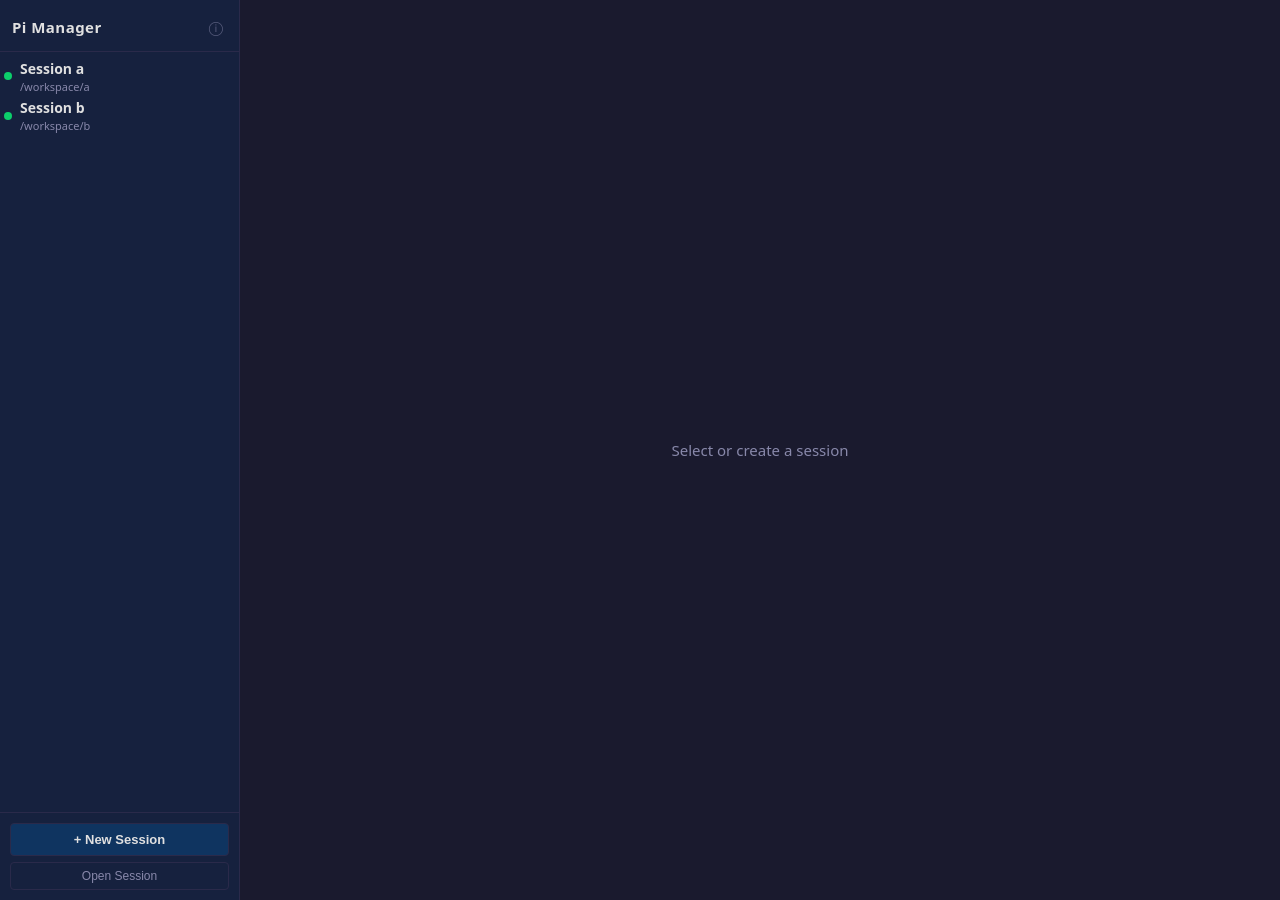
Test: App › clicking a different session switches the active view
Click the text "Session a".
click(52, 68)  # box [20,58,84,78]
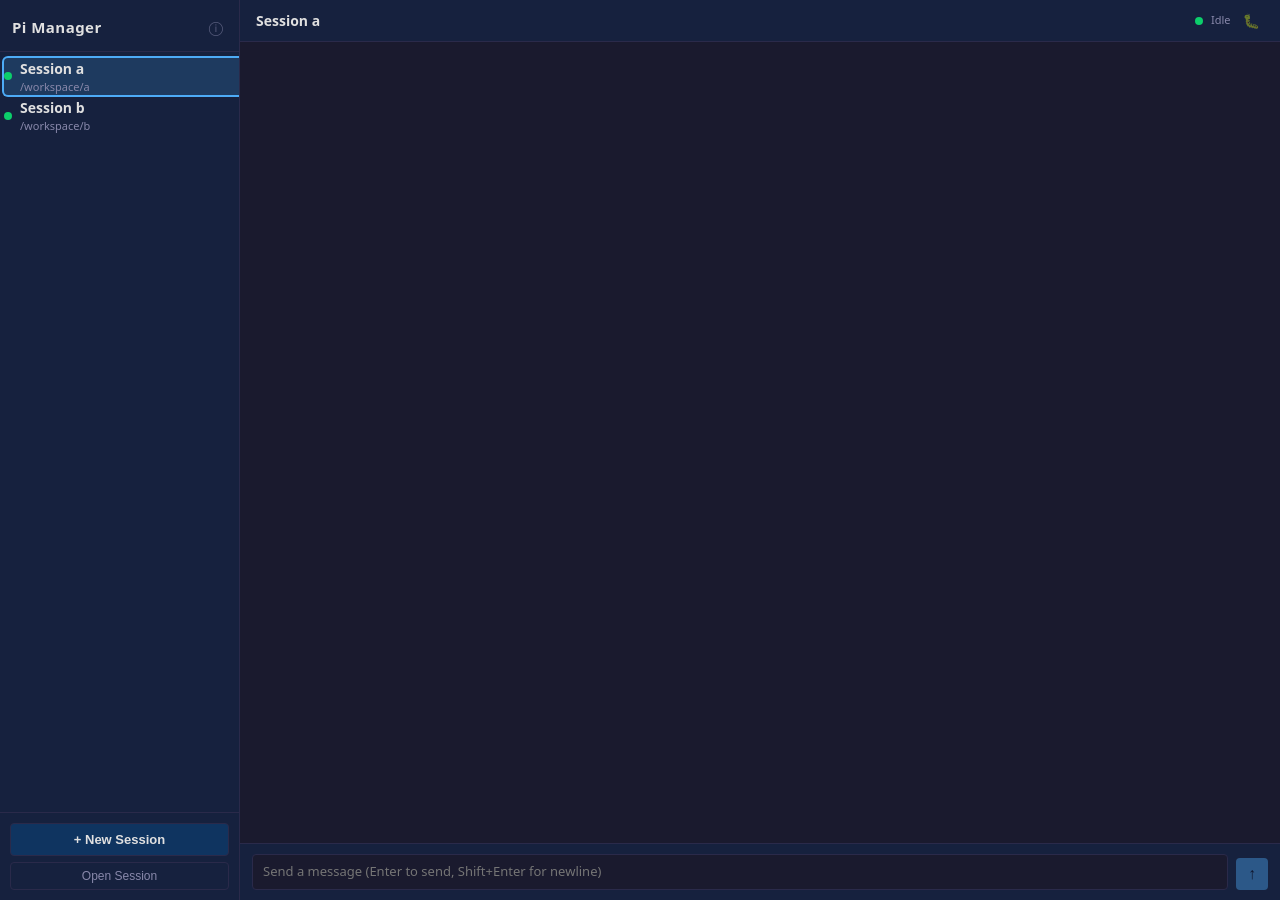
Now the text "Session a" next to "idle" is shown, box [256,11,320,30]
Click the text "Session b".
click(52, 108)  # box [20,98,84,117]
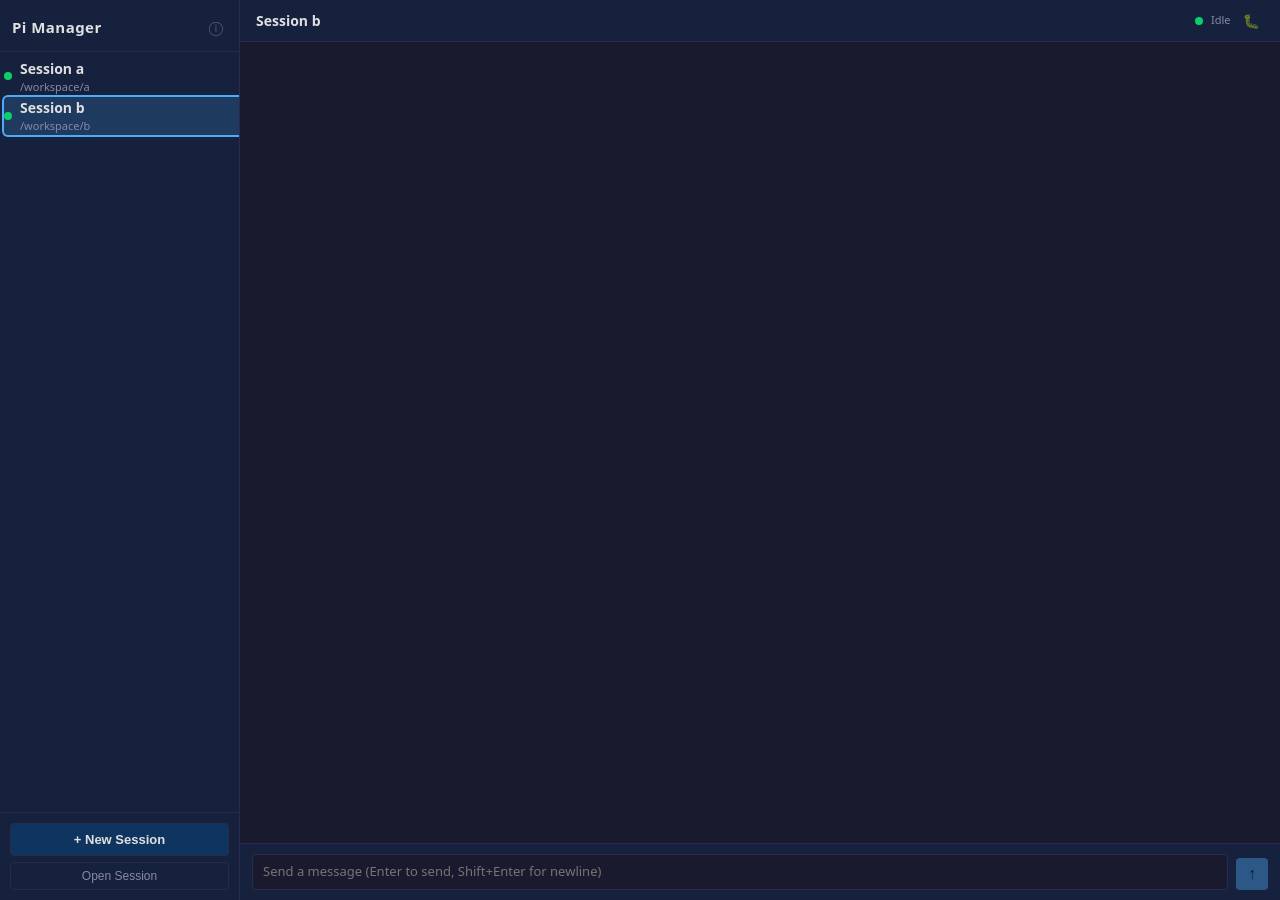
Now the text "Session b" next to "idle" is shown, box [256,11,320,30]
